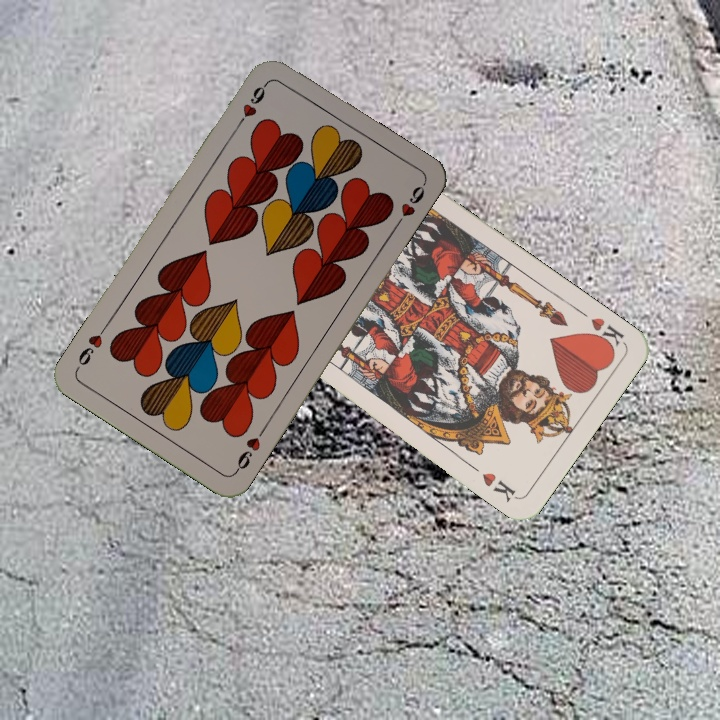H9: (232, 78, 271, 131), (231, 423, 269, 476)
HK: (576, 306, 627, 354)
